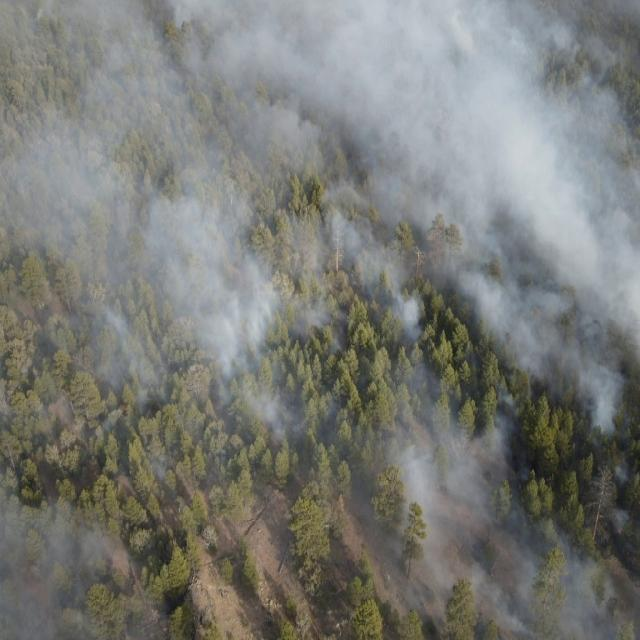fire: (118, 402, 128, 416)
smoke: (0, 0, 640, 386), (349, 384, 640, 640), (0, 388, 341, 469), (0, 467, 142, 640)
